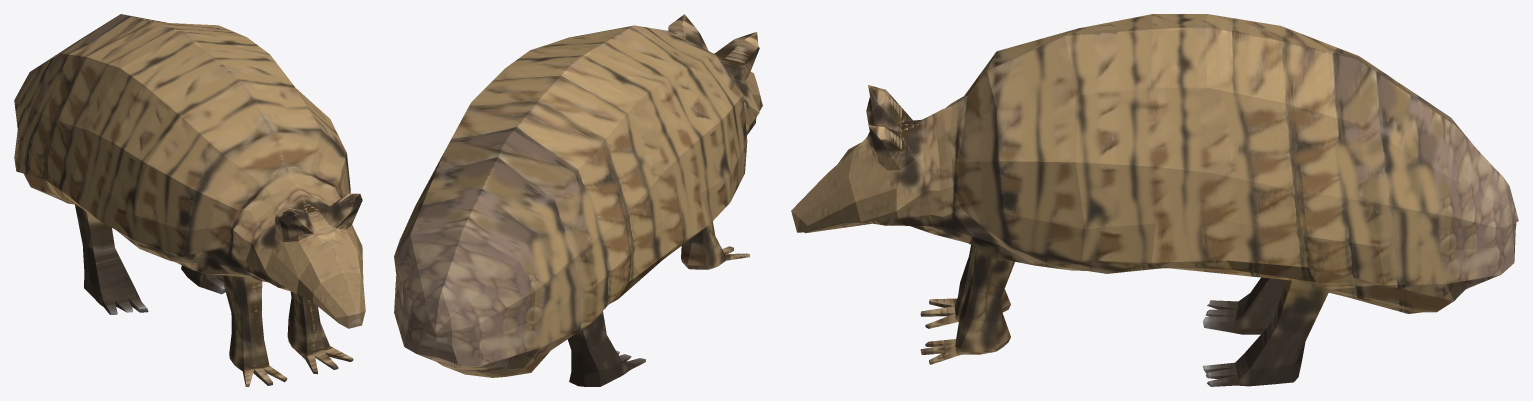
File: arumaziro2.fbx
3 views of the same model, side by side, from view 1: azimuth 30°, elevation 25°; view 2: azimuth 150°, elevation 25°; view 3: azimuth 270°, elevation 25° (orthographic). The views are drawn at different scales.
Visible parts, largest first — view 1: arumaziro; view 2: arumaziro; view 3: arumaziro.
Boxes of the visible parts, x1,y1,x2,y2 form: arumaziro: [14, 14, 365, 386]; arumaziro: [394, 14, 762, 386]; arumaziro: [791, 14, 1518, 386].
Size of the model in its own units: 21.02 by 25.37 by 51.4.
